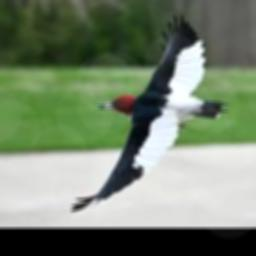Woodpecker: (72, 14, 228, 212)
